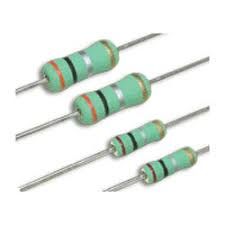resistor: (25, 42, 130, 95), (57, 78, 163, 125), (89, 120, 184, 160), (132, 145, 206, 189)
